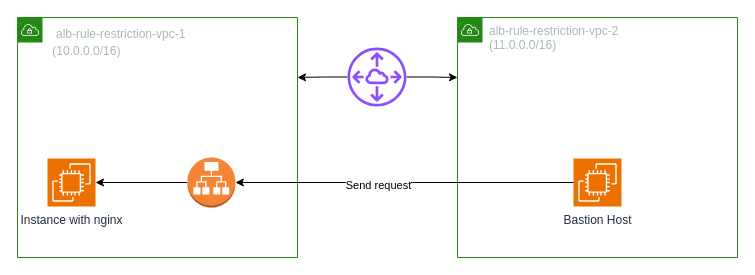
The diagram is 755 pixels wide and 275 high, and some of its shapes have lost their labels. Each missing label, with the centre of its shape:
"Peering established" goes at [376,76].
"Rule1: 11.0.0.0/16 (port 80) Rule 2: 12.0.0.0/16 (port 8080)" goes at [210,182].
